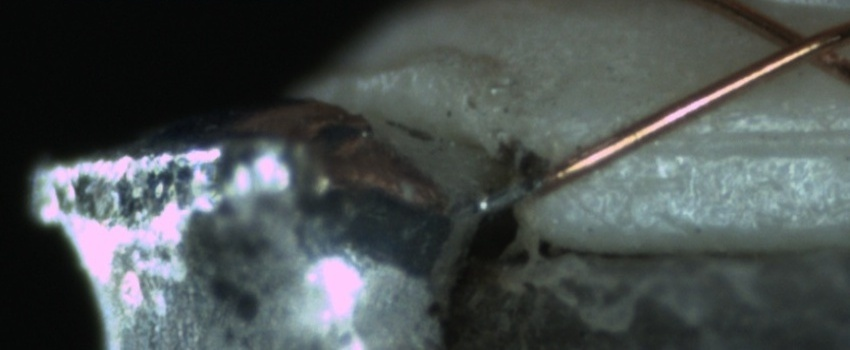CL: (751, 13, 845, 77)
DL: (642, 101, 842, 179)
TS: (472, 170, 546, 216)
